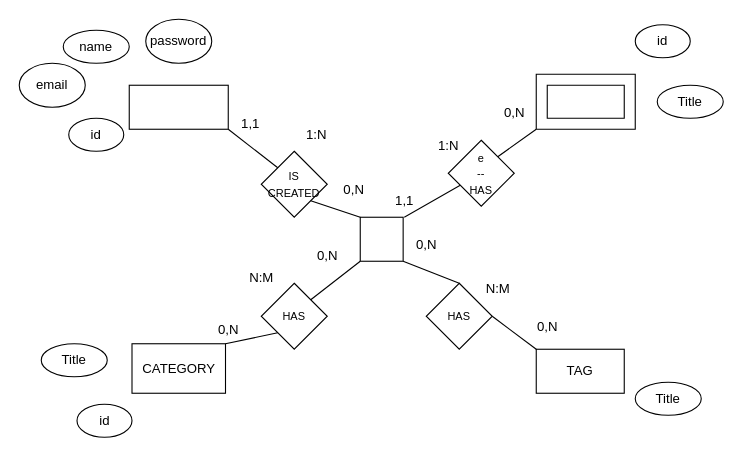
The diagram is 743 pixels wide and 457 high, and some of its shapes have lost their labels. Each missing label, with the centre of its shape:
SUBTASK: (x=585, y=101)
TASK: (x=381, y=238)
USER: (x=178, y=106)
